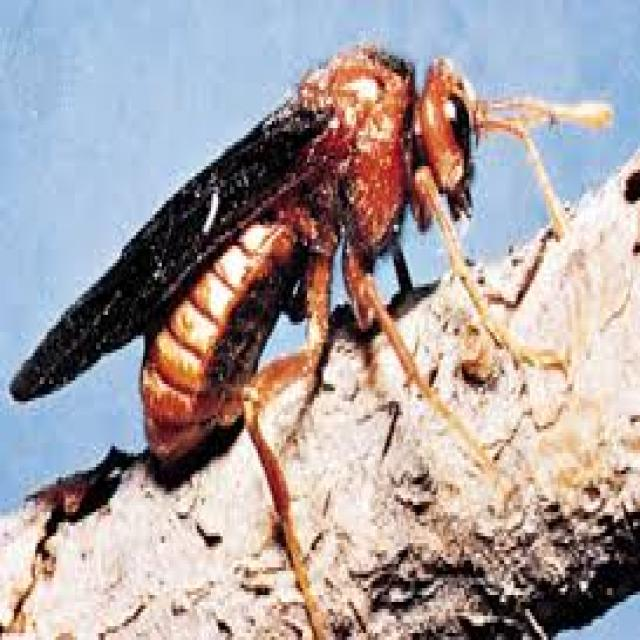Saw Fly: (6, 30, 616, 602)
